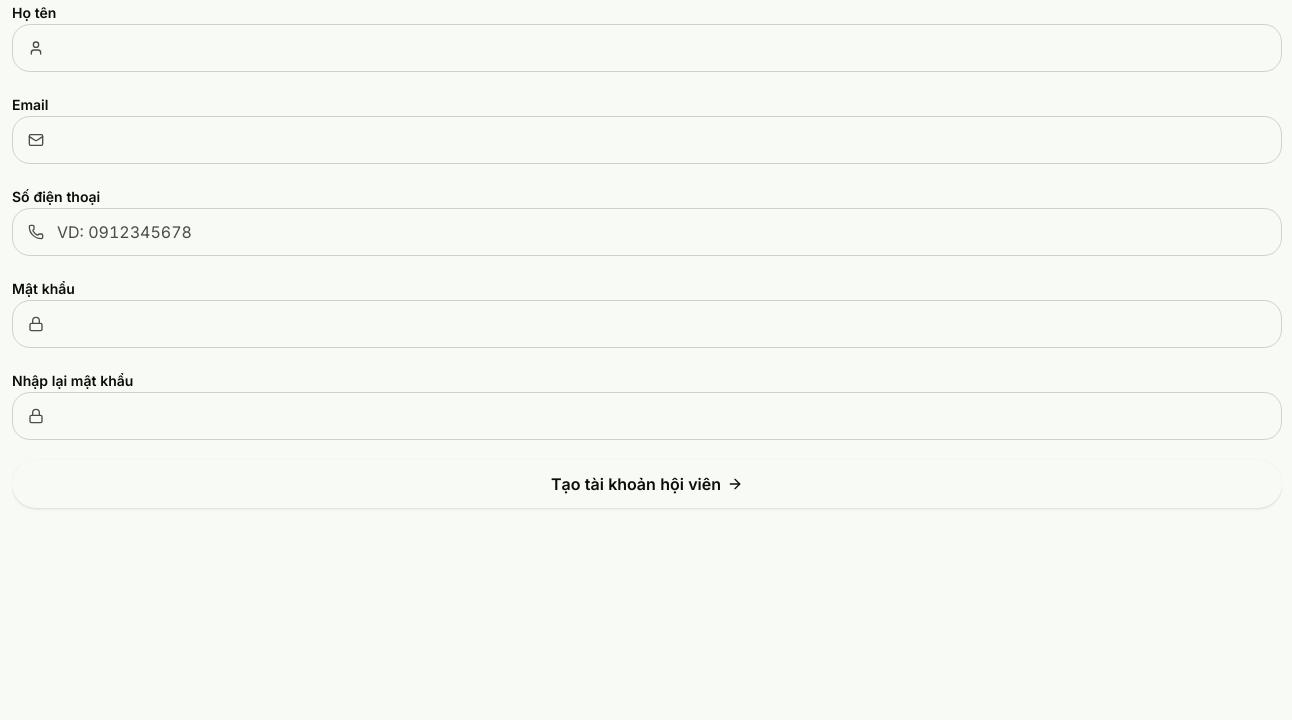
Test: auth account forms › shows duplicate email error on signup
Step 1. Type "Existing Member" into the field labelled "Họ tên" → (647, 48), box top-left (12, 24), bottom-right (1282, 72)
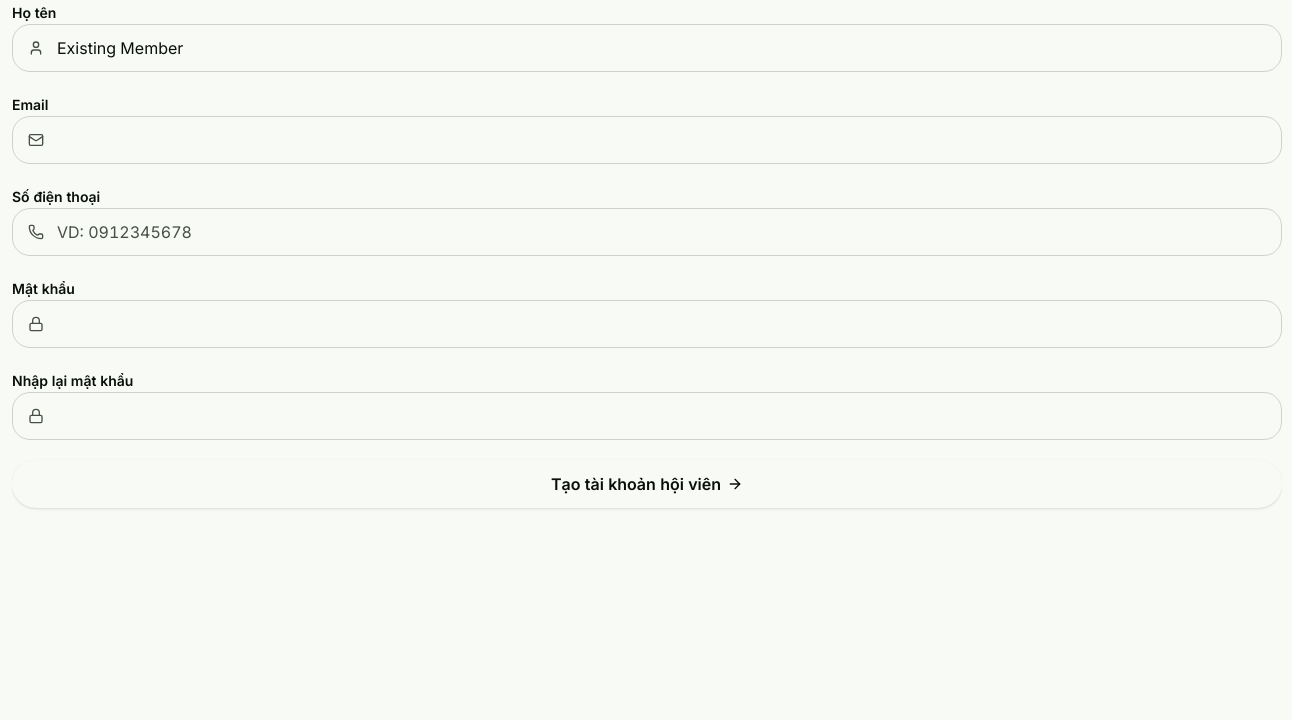
Step 2. Type "member@gymmaster.local" into the field labelled "Email" → (647, 140), box top-left (12, 116), bottom-right (1282, 164)
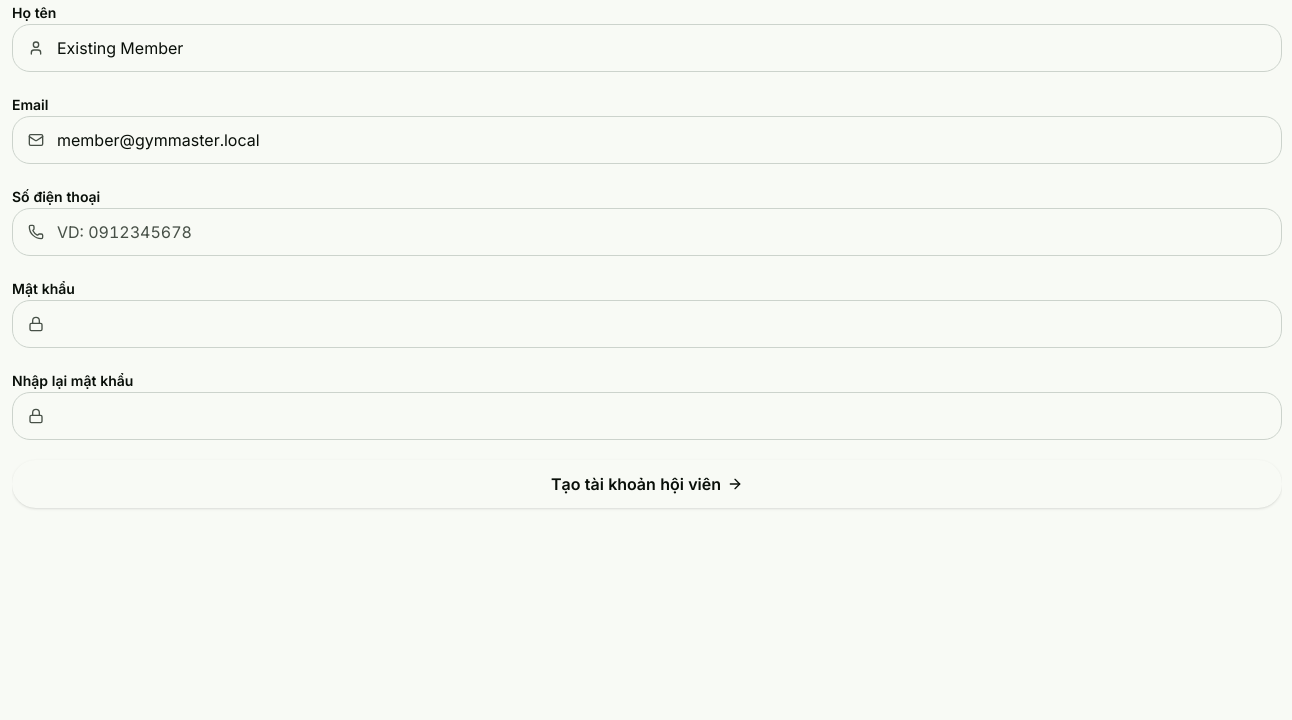
Step 3. Type "Password123!" into the password field labelled "Mật khẩu" → (647, 324), box top-left (12, 300), bottom-right (1282, 348)
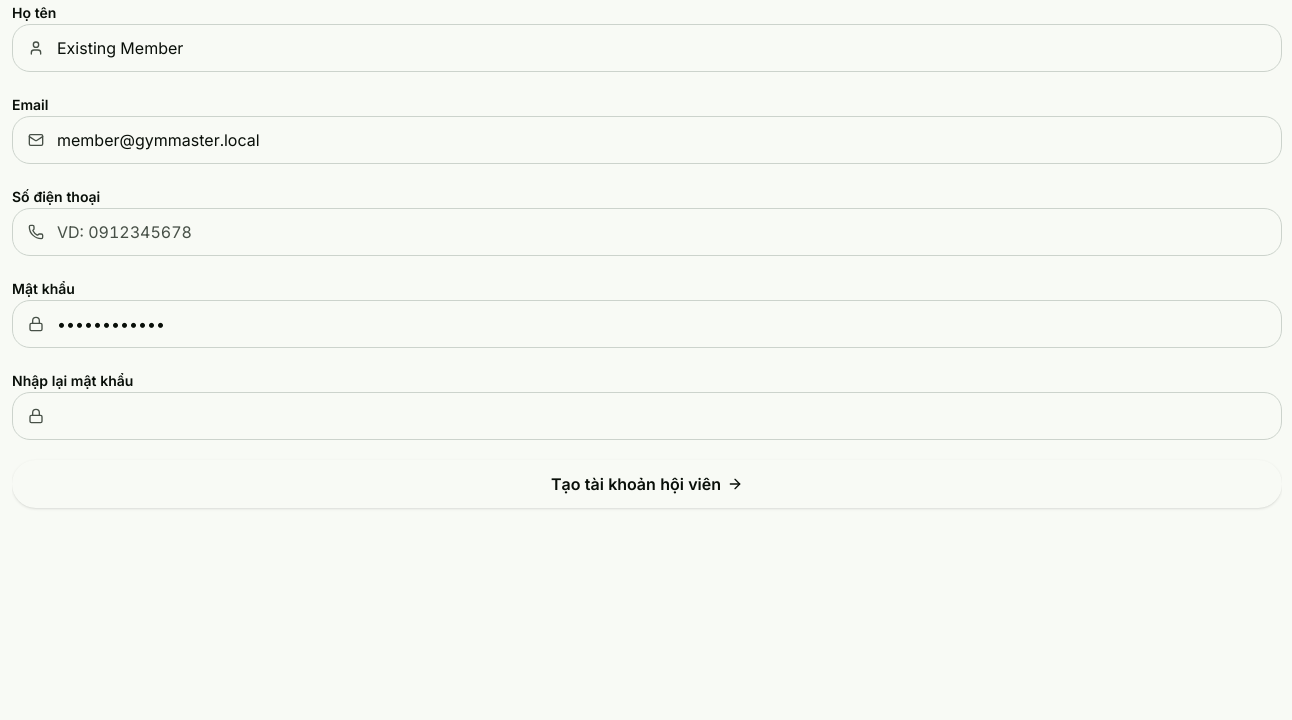
Step 4. Type "Password123!" into the password field labelled "Nhập lại mật khẩu" → (647, 416), box top-left (12, 392), bottom-right (1282, 440)
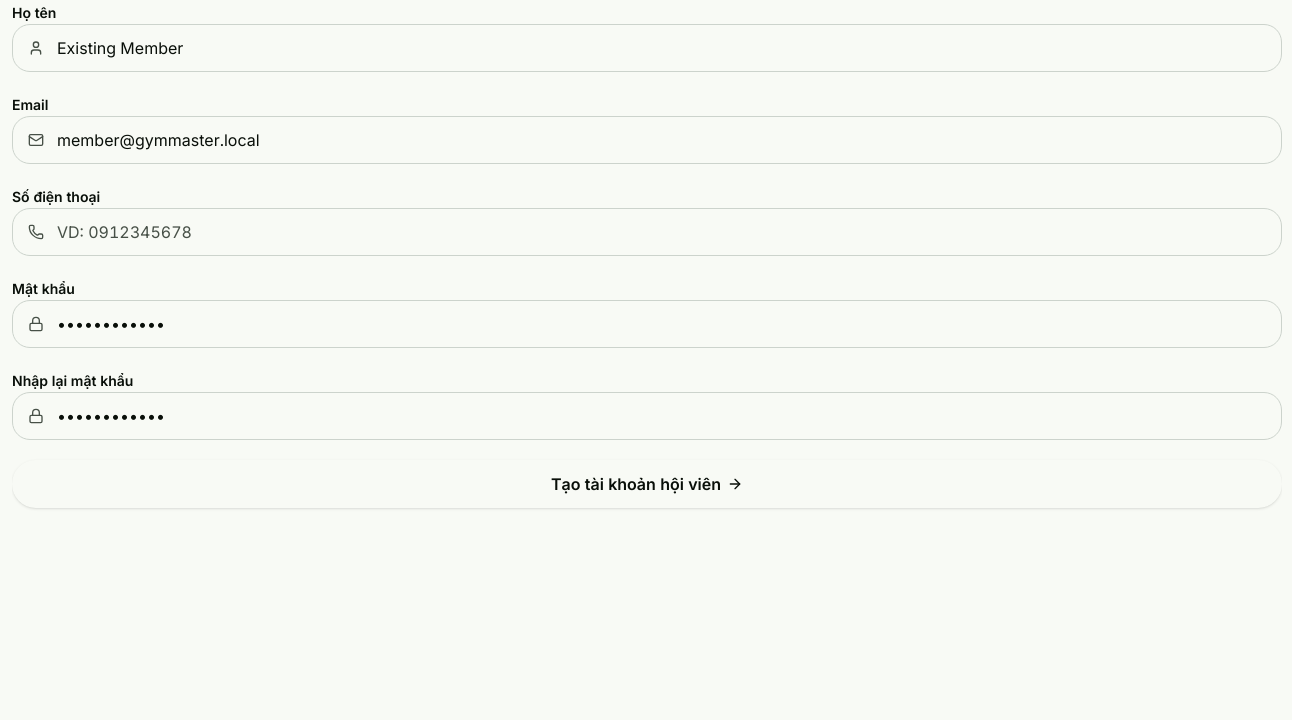
Step 5. Click the button "Tạo tài khoản hội viên" → (647, 484), box top-left (12, 460), bottom-right (1282, 508)
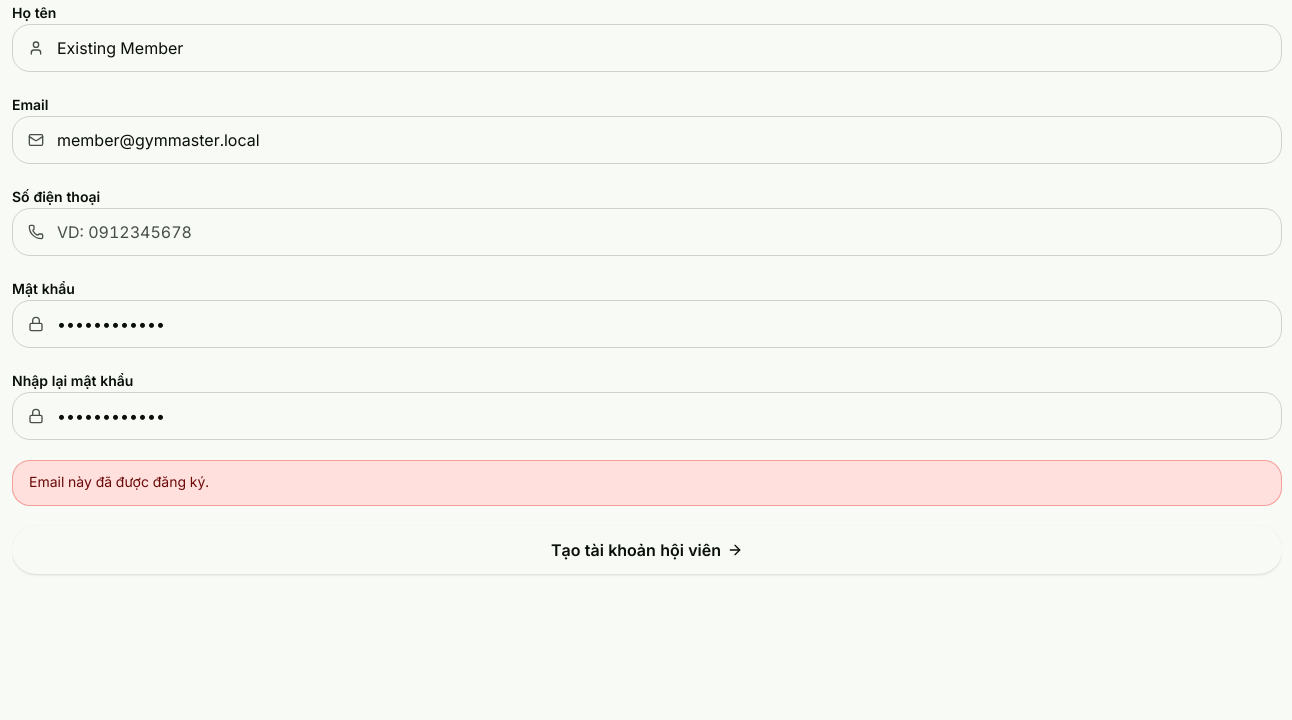
Expected: the text "Email này đã được đăng ký." is shown, top-left (12, 460), bottom-right (1282, 506)
